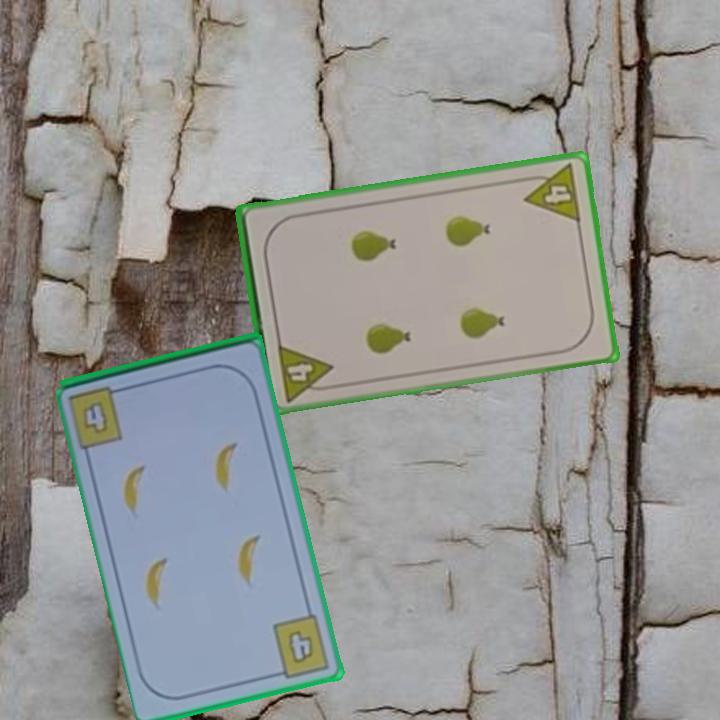4b: (269, 611, 333, 681), (79, 397, 112, 438)
4p: (518, 160, 584, 225), (274, 340, 338, 405)
